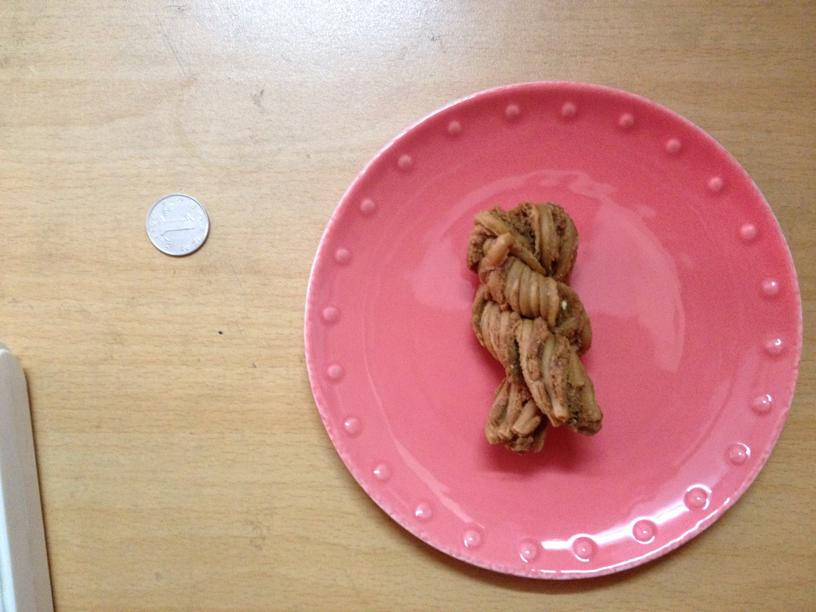coin: (144, 192, 210, 257)
fired_dough_twist: (456, 201, 603, 450)
